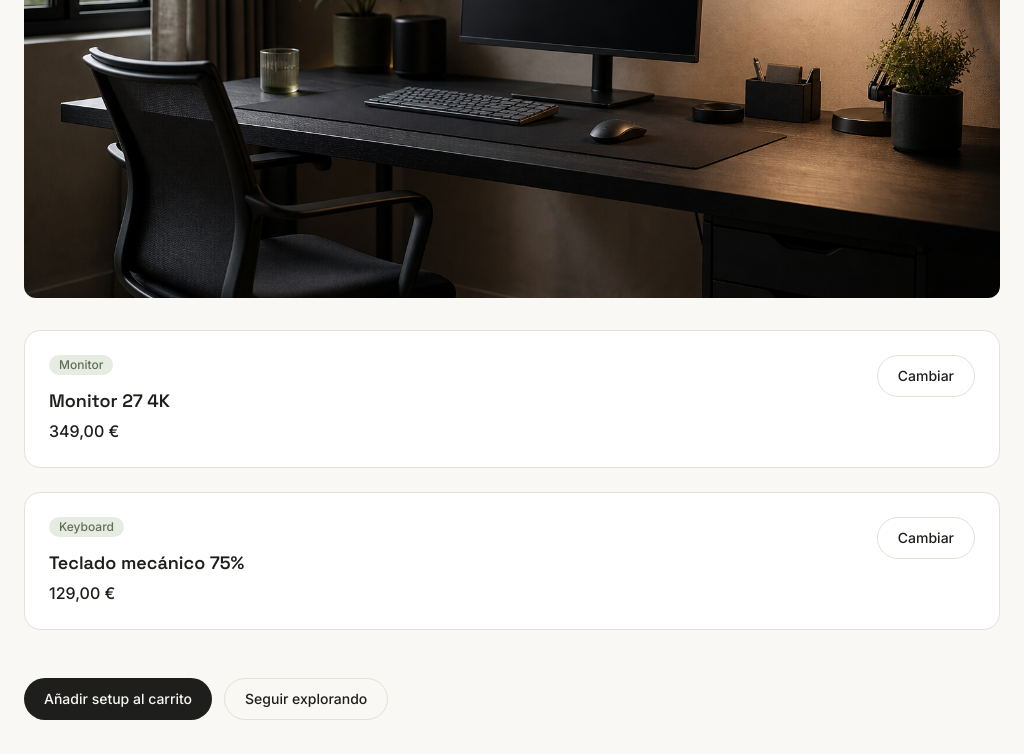
Test: SetupDetail › swapping a slot updates the total
(page scrolled)
Click the button "Cambiar" in the row of "Teclado mecánico 75%" at (926, 538), box [877,517,975,559]
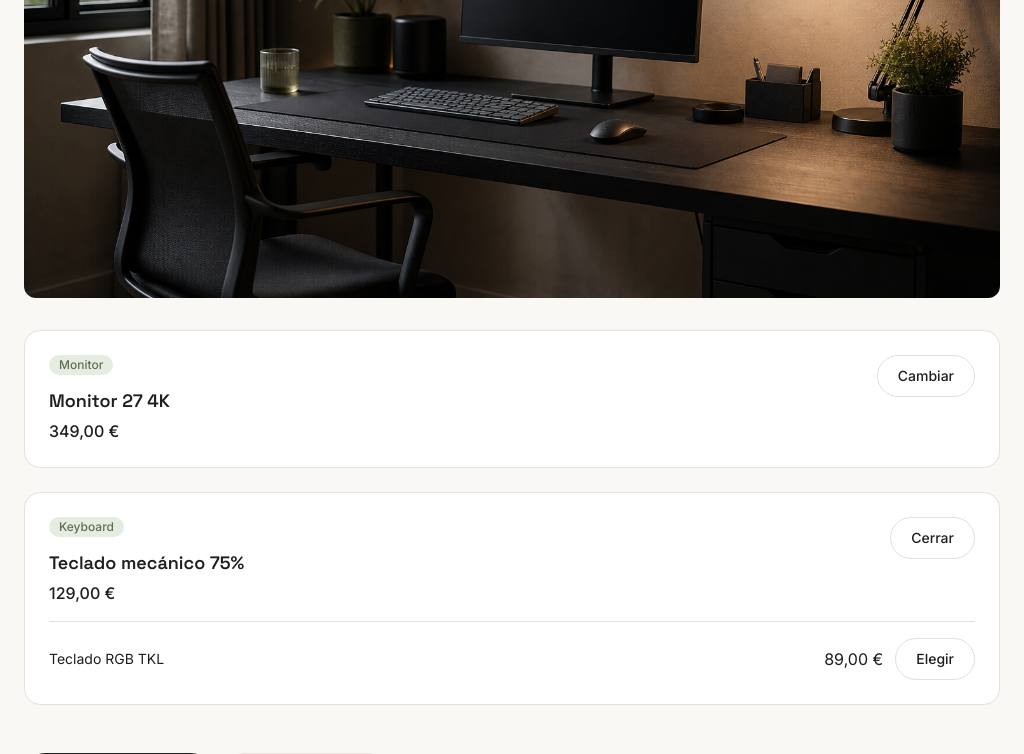
Expected: the text "Teclado RGB TKL" is shown, [49,650,164,667]
Click the button "Elegir" at (935, 659), box [895,638,975,680]
(page scrolled)
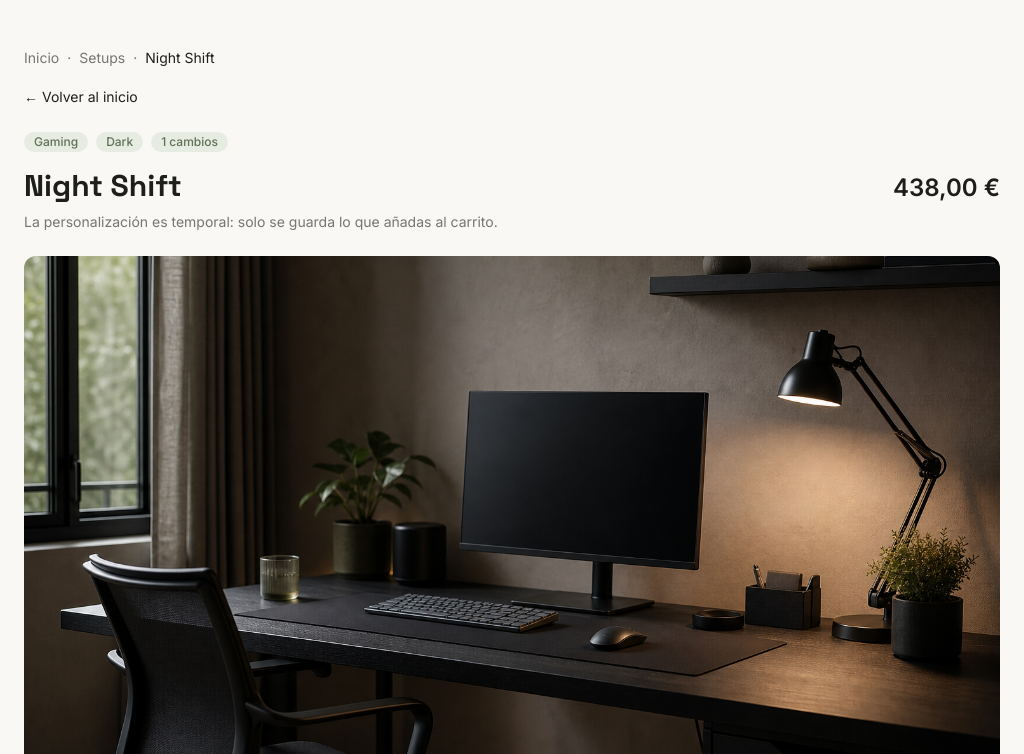
Expected: the text "438,00 €" is shown, [893,173,1000,202]
Expected: the text "1 cambios" is shown, [151,132,228,152]
